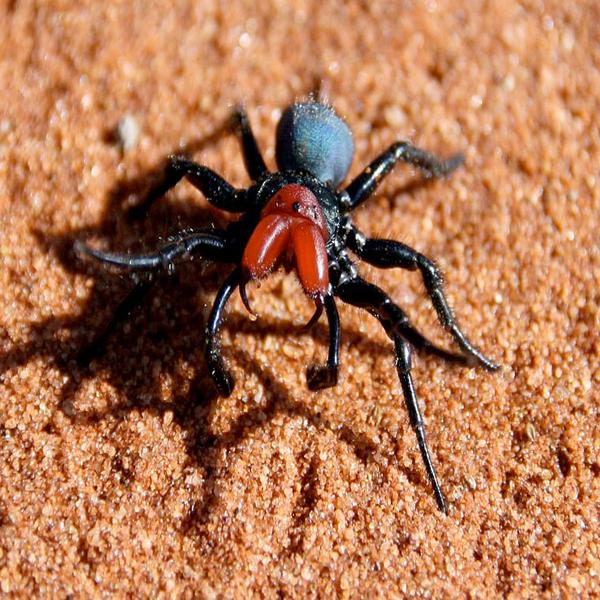Red Headed Mouse Spider: (95, 100, 478, 506)
